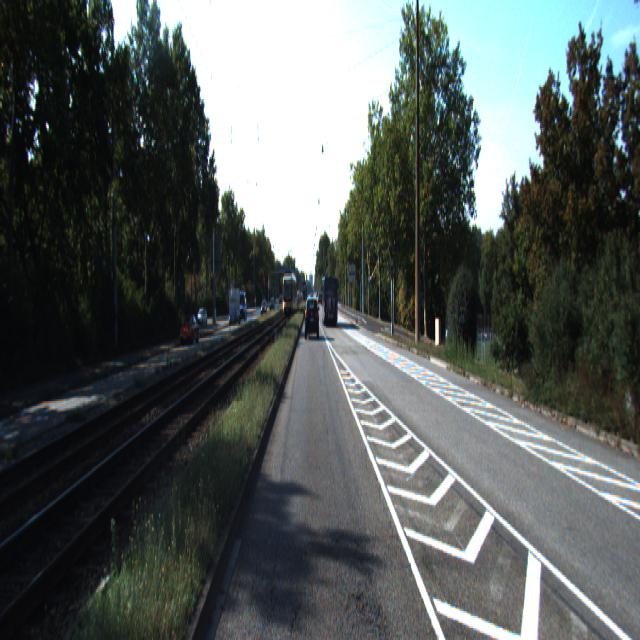Car: (322, 276, 338, 328), (179, 315, 199, 347), (305, 298, 319, 340)
